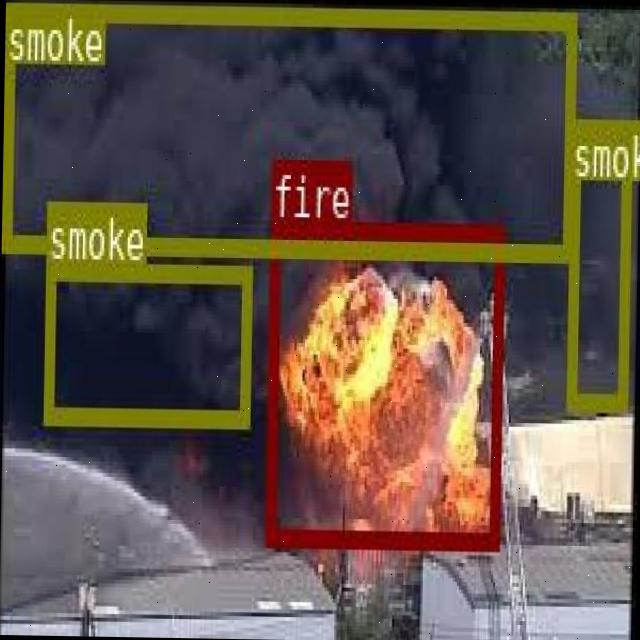fire: (265, 218, 502, 547)
smoke: (2, 1, 576, 258), (42, 262, 249, 424), (566, 115, 630, 408)
